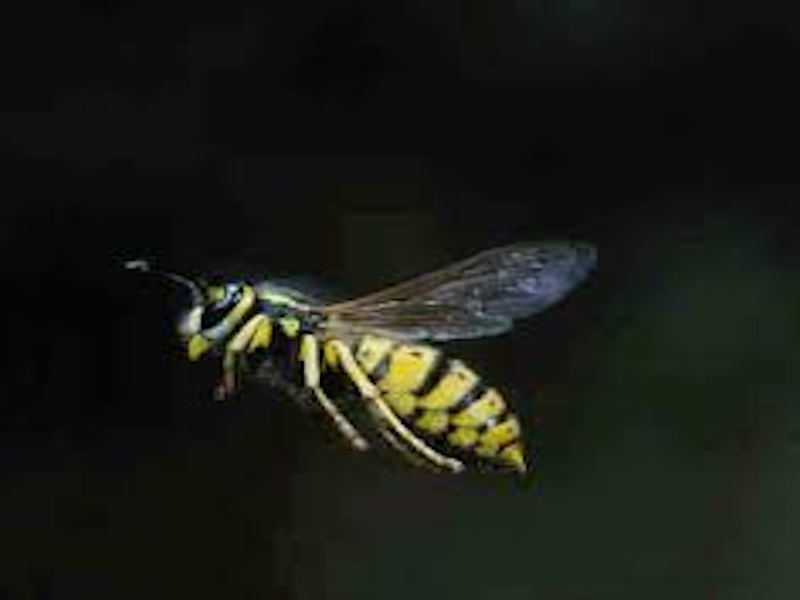chax: (93, 198, 681, 508)
